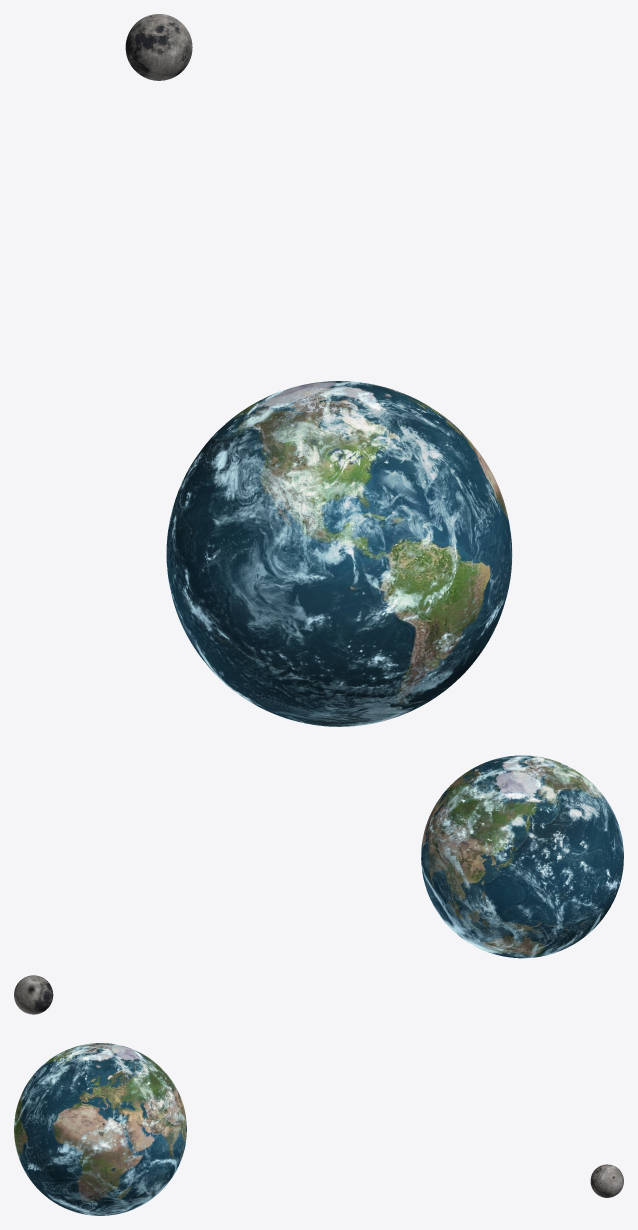
Rendered from Earthanimation.gltf.
3 views of the same model, one above another, from view 1: azimuth 30°, elevation 25°; view 2: azimuth 150°, elevation 25°; view 3: azimuth 270°, elevation 25° (orthographic). The views are drawn at different scales.
Parts seen in each view (by area): view 1: earth, clouds, moon; view 2: earth, clouds, moon; view 3: earth, clouds, moon.
Part boxes in pixels (<box>): earth: <box>166,381,512,726</box>; clouds: <box>166,381,512,726</box>; moon: <box>125,14,192,80</box>; earth: <box>421,755,623,958</box>; clouds: <box>421,755,623,958</box>; moon: <box>14,975,53,1014</box>; earth: <box>14,1043,186,1215</box>; clouds: <box>14,1043,186,1215</box>; moon: <box>590,1164,623,1197</box>.
Size of the model in its own units: 20.92 by 12.41 by 43.75.
Materials: 3 (3 with a texture image).
